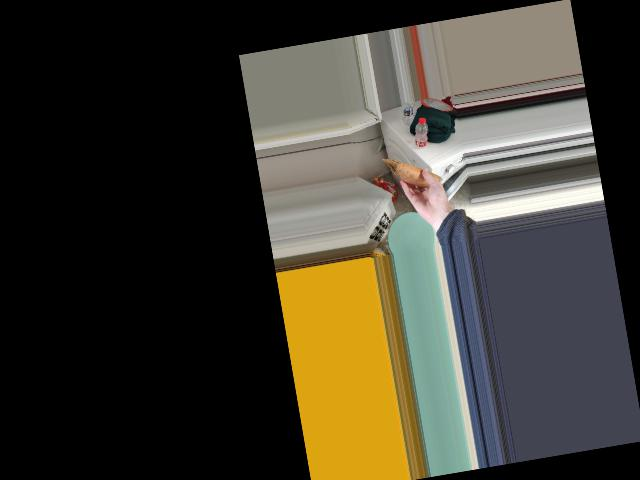sweet_potato: (397, 159, 434, 191)
